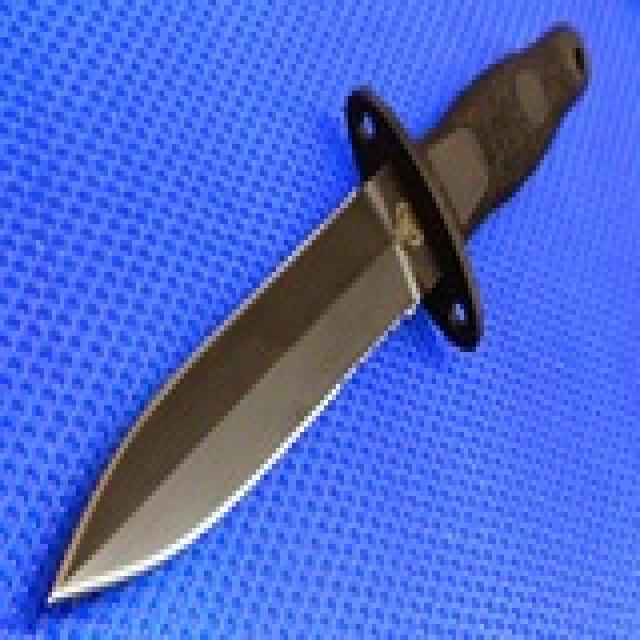Knife: (34, 27, 591, 610)
